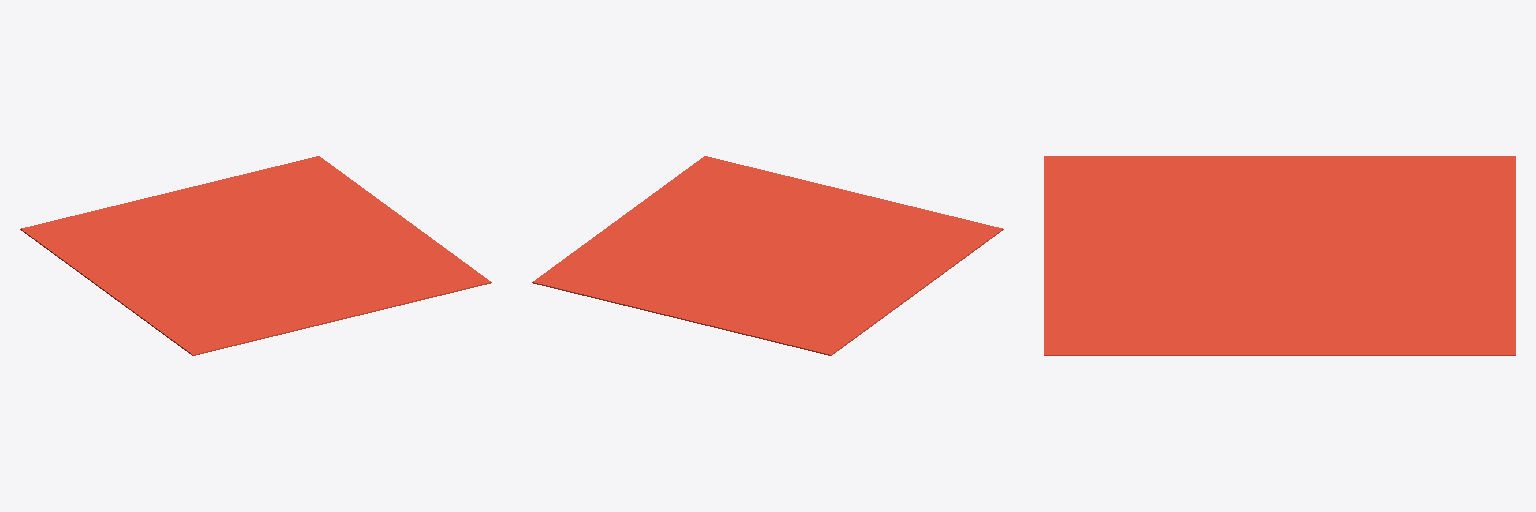
URDF robot description (ground):
<?xml version="1.0"?>
<robot name="ground">
  <link name="world">
    <visual>
      <geometry>
        <box size="5 5 0.02"/>
      </geometry>
      <origin xyz="0 0 -0.01"/>
      <material name="Orange">
        <color rgba="1 0.4 0.3 0.6"/>
      </material>
    </visual>
    <collision>
      <geometry>
        <box size="5 5 0.02"/>
      </geometry>
      <origin xyz="0 0 -0.02"/>
    </collision>
  </link>
</robot>

--- Facts derived from the render (not from the file) ---
3 views of the same robot in one strip: view 1: azimuth 30°, elevation 25°; view 2: azimuth 150°, elevation 25°; view 3: azimuth 270°, elevation 25° (orthographic).
Robot: ground — 1 links, 0 joints (none); root link world; default pose: every joint at zero.
Links seen in each view (by area): view 1: world; view 2: world; view 3: world.
Boxes of the visible links, x1,y1,x2,y2 form: world: [20, 156, 491, 355]; world: [532, 156, 1003, 355]; world: [1044, 156, 1515, 355].
Bounding box of the posed robot: 5 × 5 × 0.02 m (x, y, z).
Geometry: primitives only (box / cylinder / sphere), no mesh files.
